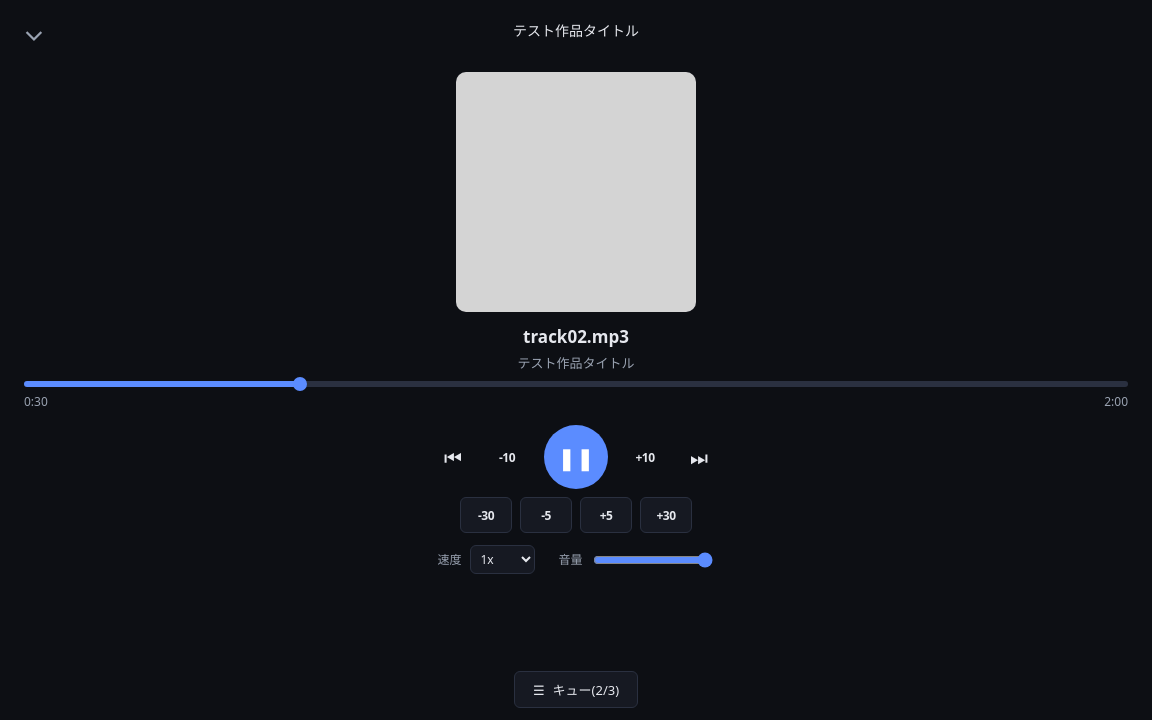
Scenario: FullscreenPlayer 操作 › キューボタンに現在番号/総数が表示され、クリックでキュー画面が開く
Click the button with aria-label "再生キューを表示" at {"x": 576, "y": 690}, box [514,671,638,708]
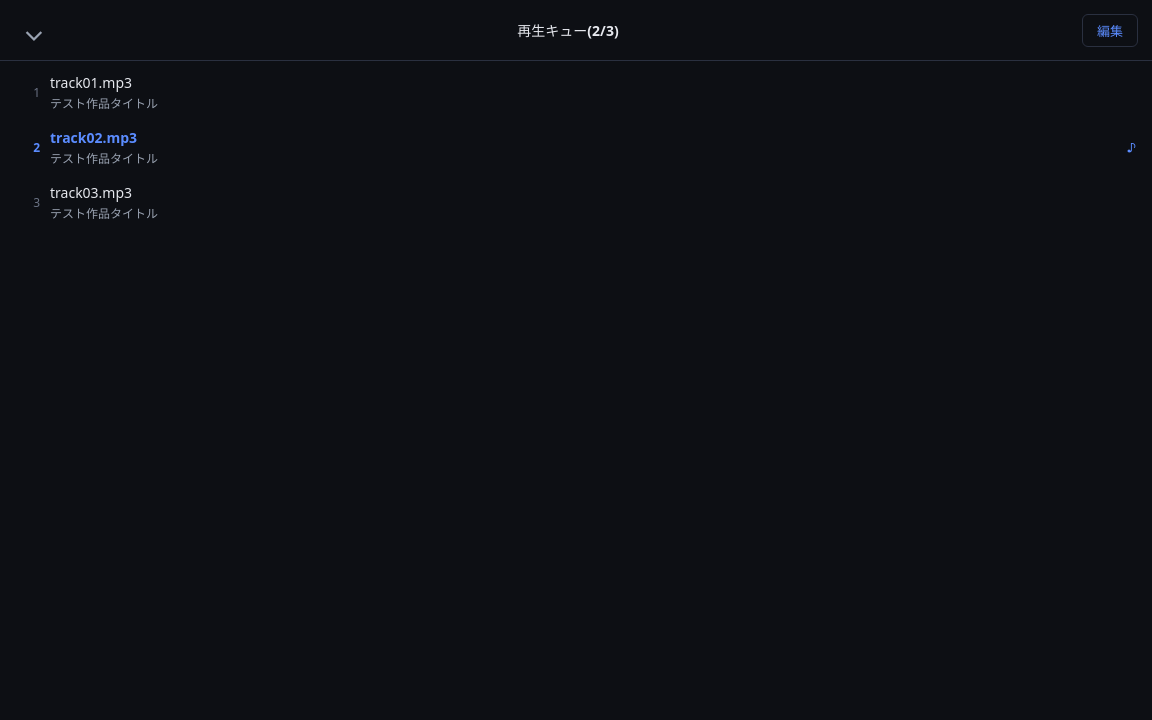
Now the text "再生キュー(2/3)" is shown, box [517,20,619,40]
